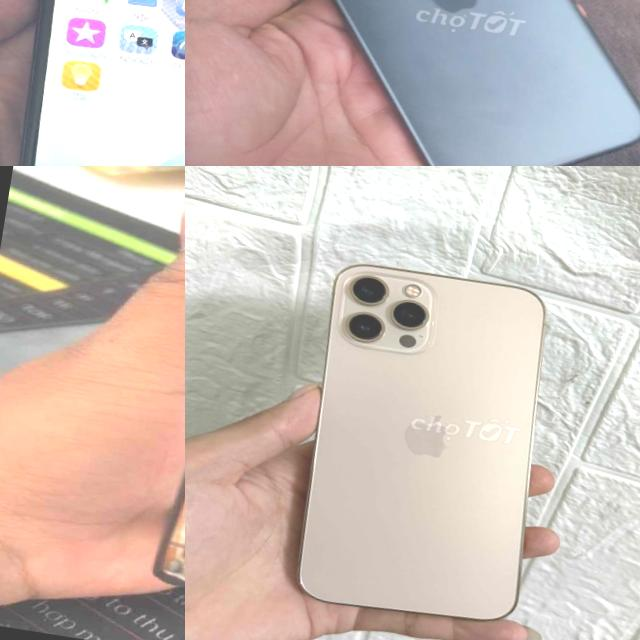gen_11: (333, 0, 640, 166), (0, 0, 185, 166)
gen_12_13: (278, 253, 572, 636)
